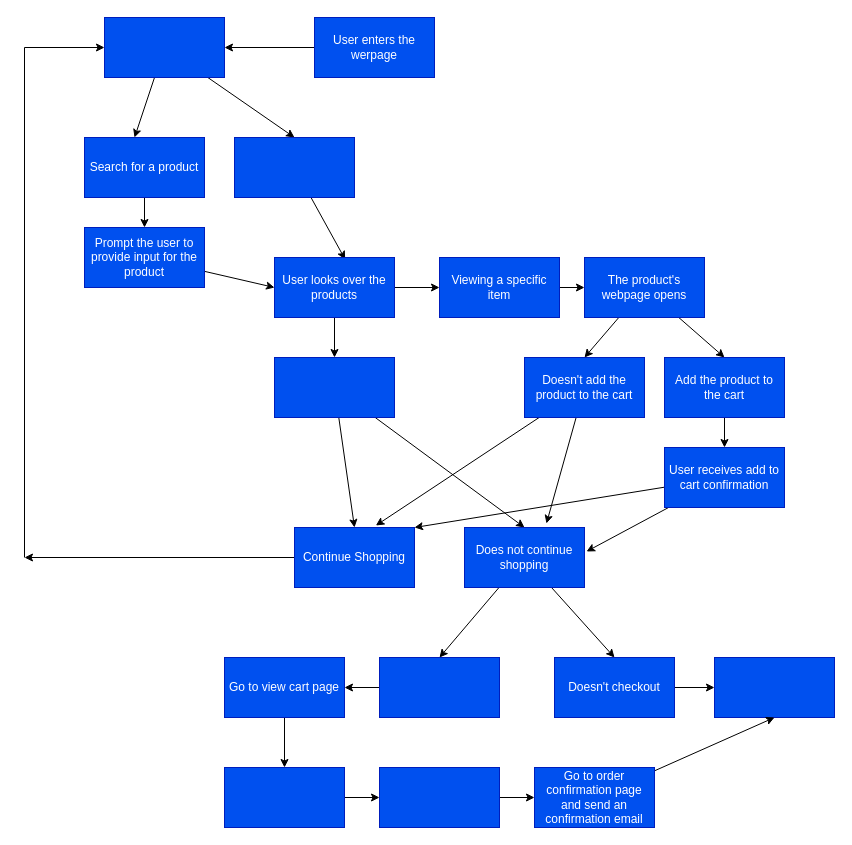
Some shapes in this 852 by 845 pixel diagram are drawn without their labels. The shapes that lost their labels are listed below. From the top down, each one's centre as x and y in pixels, then its label:
At point 164,47: "Prompt to search for a specific product or not".
At point 294,167: "Explore on the homepage".
At point 334,387: "Not viewing a specific item".
At point 439,687: "Checkout".
At point 774,687: "Exit the website".
At point 284,797: "Go to view payment page".
At point 439,797: "Ask user to input payment info".
